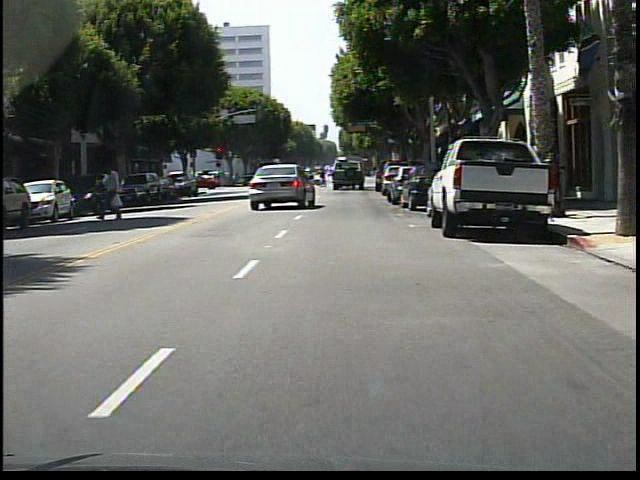person: (105, 161, 127, 224), (301, 167, 313, 190), (319, 165, 329, 189)
